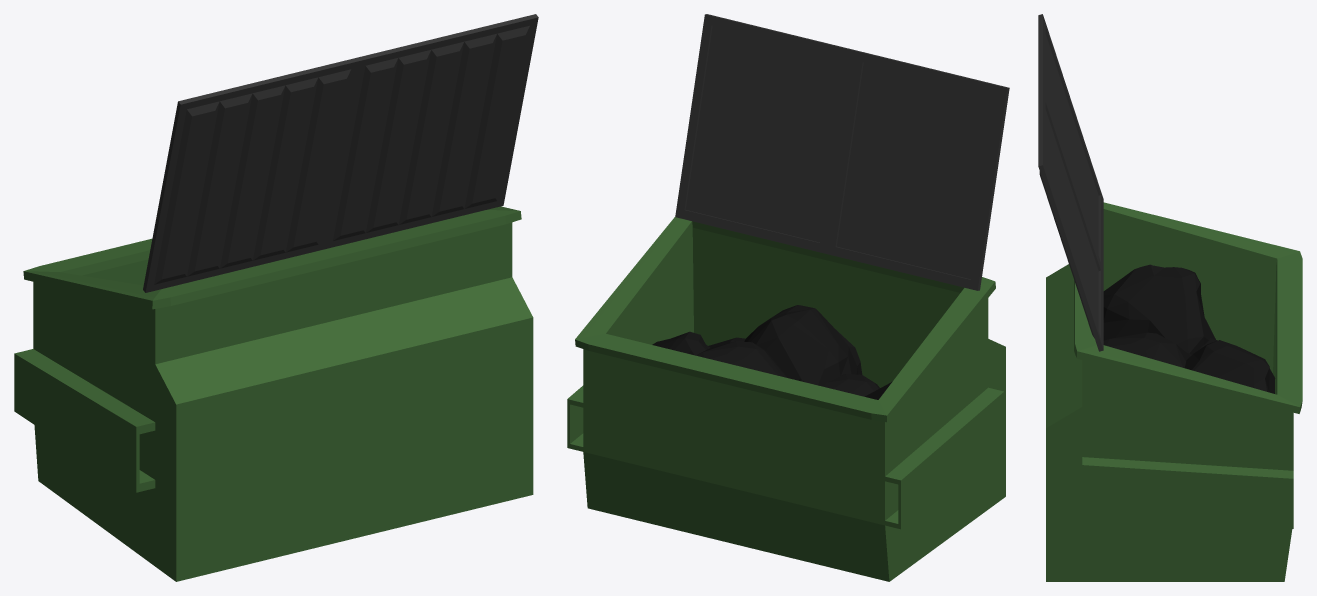
File: DumpsterOpen.fbx
3 views of the same model, side by side, from view 1: azimuth 30°, elevation 25°; view 2: azimuth 150°, elevation 25°; view 3: azimuth 270°, elevation 25° (orthographic). The views are drawn at different scales.
Parts seen in each view (by area): view 1: DumpsterOpen; view 2: DumpsterOpen; view 3: DumpsterOpen.
Part boxes in pixels (box(x1,y1,x2,y2)): DumpsterOpen: box(14, 14, 538, 581); DumpsterOpen: box(567, 14, 1009, 581); DumpsterOpen: box(1038, 14, 1302, 581).
Bounding box in the file's own units: 904 × 1054 × 605.
